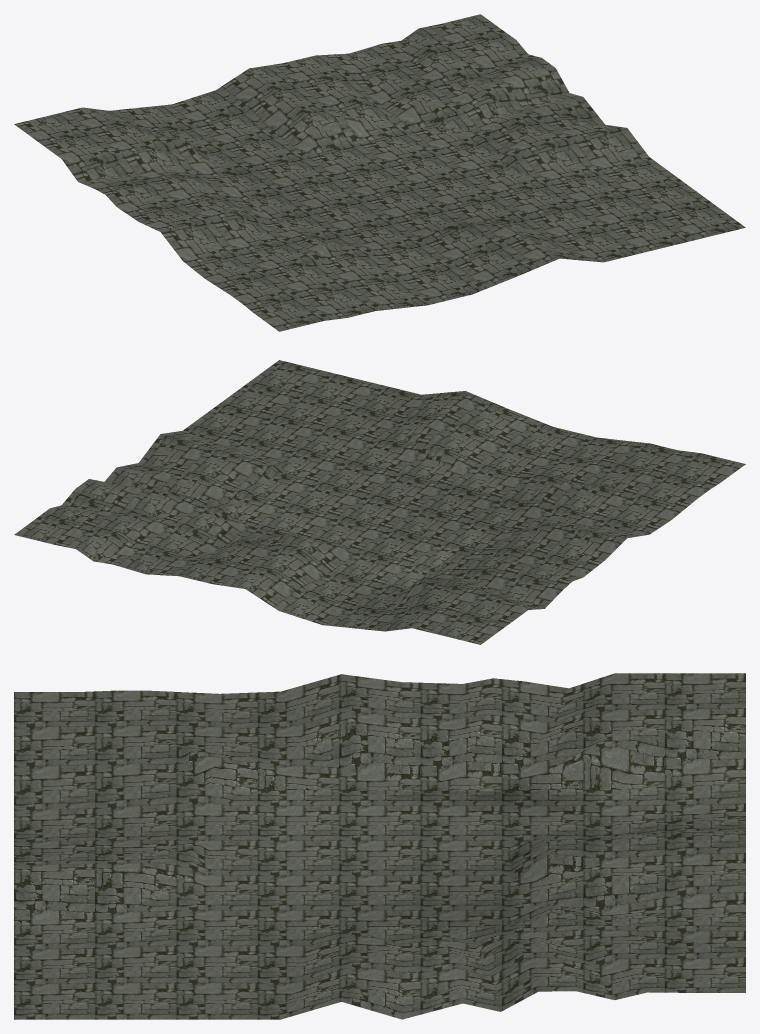
Rendered from Bra0101_Terrain.FBX.
3 views of the same model, one above another, from view 1: azimuth 30°, elevation 25°; view 2: azimuth 150°, elevation 25°; view 3: azimuth 270°, elevation 25° (orthographic). The views are drawn at different scales.
Visible parts, largest first — view 1: Bra0101_Terrain; view 2: Bra0101_Terrain; view 3: Bra0101_Terrain.
Part boxes in pixels (x1,y1,x2,y2): Bra0101_Terrain: (14, 14, 745, 331); Bra0101_Terrain: (14, 360, 745, 644); Bra0101_Terrain: (14, 673, 745, 1019).
Bounding box in the file's own units: 7151 × 339 × 7040.
